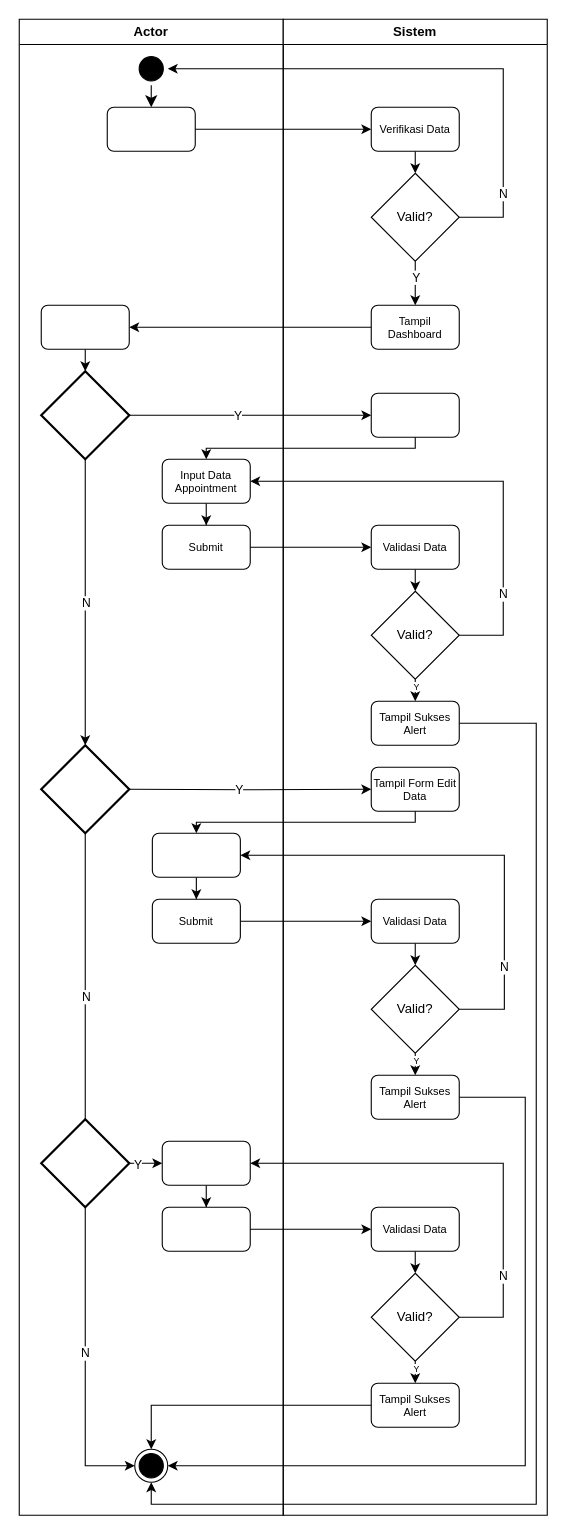
Some shapes in this 567 by 1535 pixel diagram are drawn without their labels. The centre of each missing label's shape, as x and y in pixels:
"Delete Appointment" goes at pixel 85 1163.
"Edit Appointment" goes at pixel 85 789.
"Edit Data Appointment" goes at pixel 195 854.
"Hapus Data Appointment" goes at pixel 205 1228.
"Login" goes at pixel 150 128.
"Pilih Data Appointment" goes at pixel 205 1162.
"Pilih Menu Appointment" goes at pixel 84 326.
"Tambah Appointment" goes at pixel 85 415.
"Tampil Form Input Data" goes at pixel 414 414.
